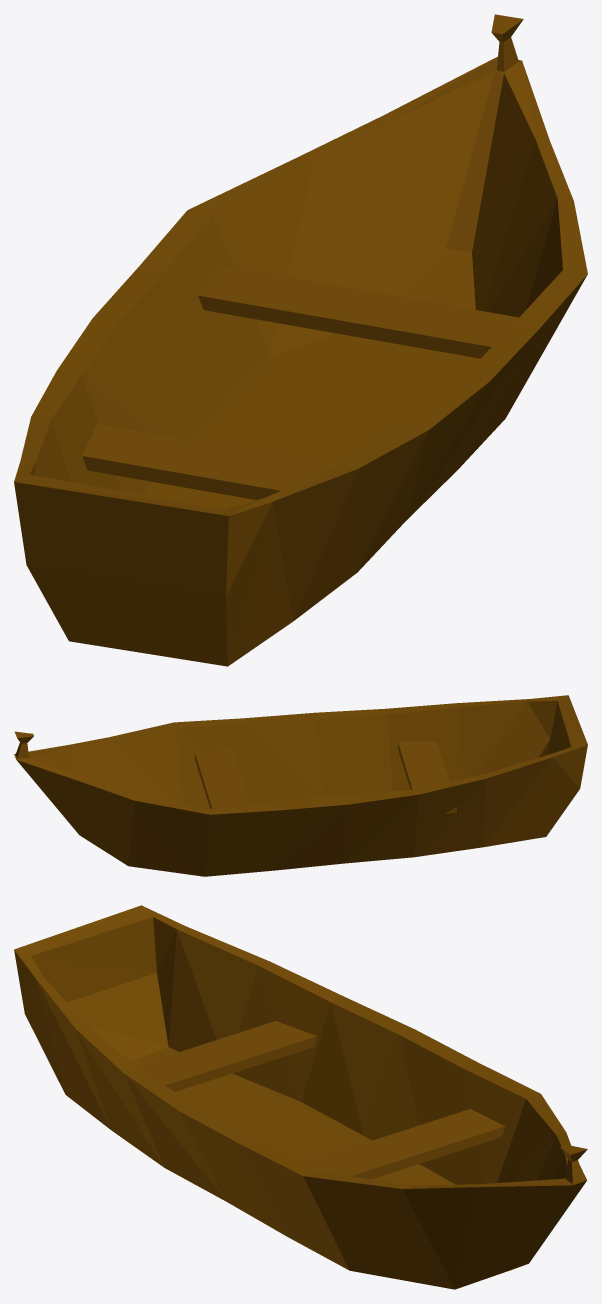
File: boat.dae
3 renders of one model, top to bottom at view 1: azimuth 30°, elevation 25°; view 2: azimuth 150°, elevation 25°; view 3: azimuth 270°, elevation 25°, orthographic. The views are drawn at different scales.
Parts seen in each view (by area): view 1: bote; view 2: bote; view 3: bote.
Part boxes in pixels (bbox=[...]): bote: bbox=[14, 14, 587, 666]; bote: bbox=[14, 695, 587, 876]; bote: bbox=[14, 905, 587, 1289].
Bounding box in the file's own units: 1.24 × 1.06 × 0.3632.
